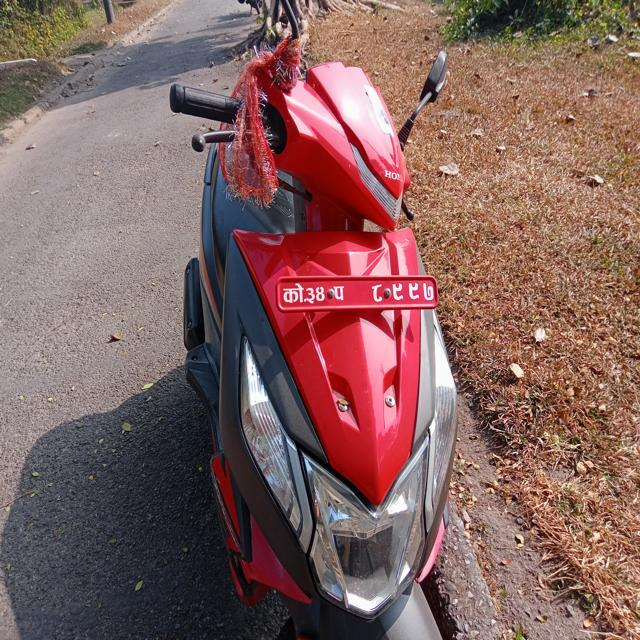license_plate: (268, 261, 472, 338)
